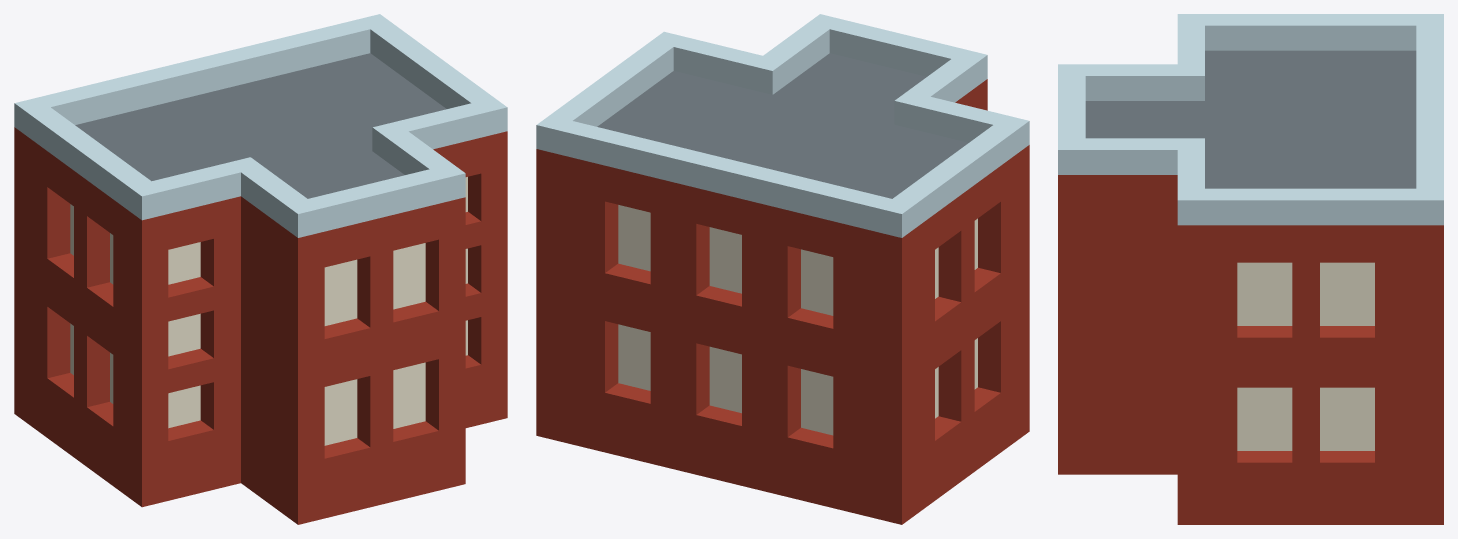
Rendered from Building_12 (Red).obj.
The picture shows the model from 3 angles, left to right: view 1: azimuth 30°, elevation 25°; view 2: azimuth 150°, elevation 25°; view 3: azimuth 270°, elevation 25°; orthographic projection. The views are drawn at different scales.
Parts seen in each view (by area): view 1: Building_12_(Red); view 2: Building_12_(Red); view 3: Building_12_(Red).
Boxes of the visible parts, bbox=[...] form: Building_12_(Red): bbox=[14, 14, 507, 524]; Building_12_(Red): bbox=[536, 14, 1029, 524]; Building_12_(Red): bbox=[1058, 14, 1443, 524].
Size of the model in its own units: 1.6 by 1.3 by 1.4.
